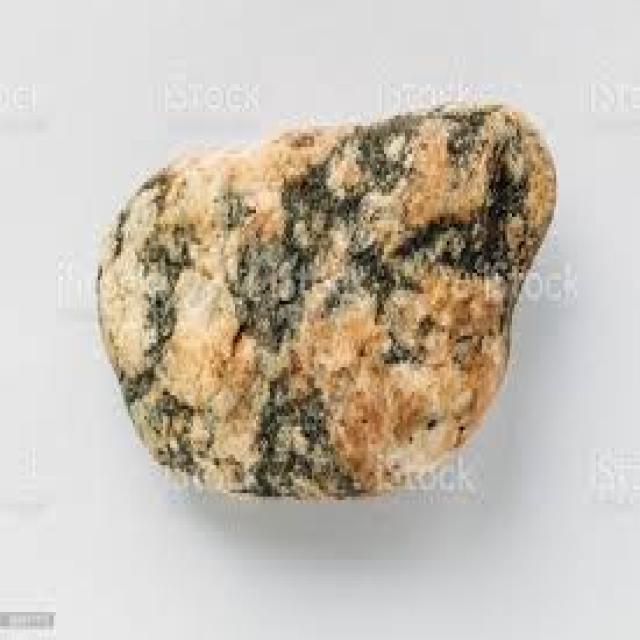Metamorphic: (105, 88, 556, 504)
